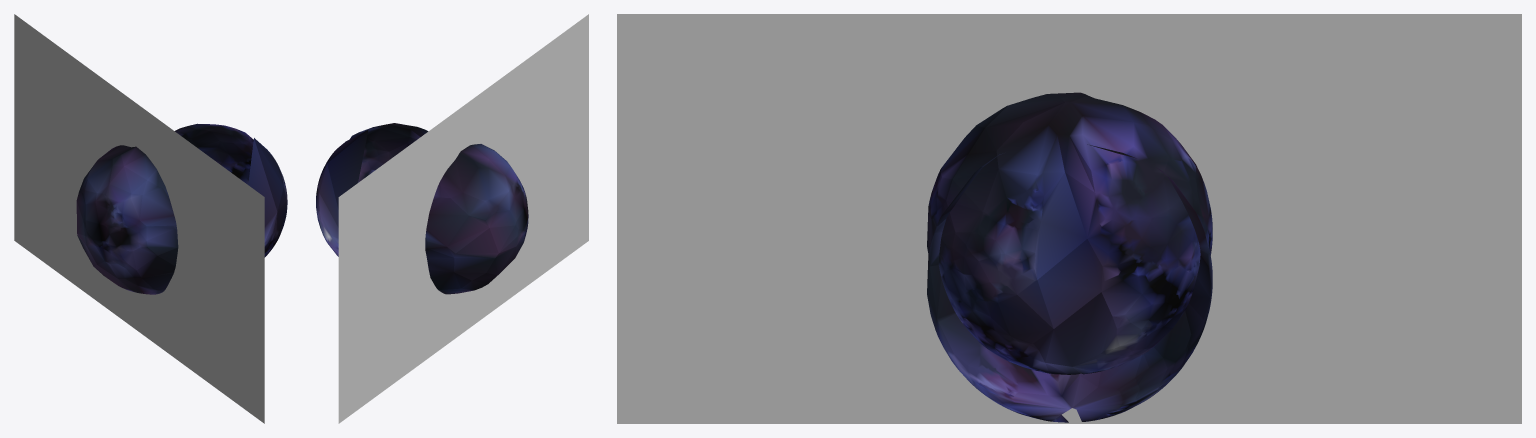
The model's file is blue_neb_360_vertex_col.fbx.
The picture shows the model from 3 angles, left to right: view 1: azimuth 30°, elevation 25°; view 2: azimuth 150°, elevation 25°; view 3: azimuth 270°, elevation 25°; orthographic projection. The views are drawn at different scales.
Parts seen in each view (by area): view 1: Plane, Curve.000, Curve.3950; view 2: Plane, Curve.000, Curve.3950; view 3: Plane, Curve.000, Curve.3950.
Part boxes in pixels (box(x1,y1,x2,y2)): Plane: box(14, 14, 264, 423); Curve.000: box(76, 145, 178, 294); Curve.3950: box(175, 123, 287, 257); Plane: box(338, 14, 588, 423); Curve.000: box(425, 144, 528, 294); Curve.3950: box(316, 123, 428, 256); Plane: box(617, 14, 1521, 423); Curve.000: box(927, 92, 1212, 374); Curve.3950: box(927, 144, 1212, 422).
Size of the model in its own units: 175 by 200 by 400.
